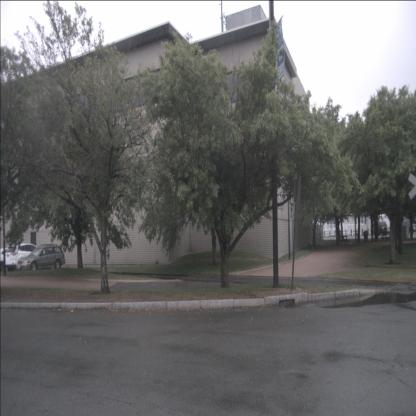vehicle-car: (16, 244, 66, 272), (5, 243, 47, 272), (0, 248, 25, 273), (377, 221, 388, 235)
